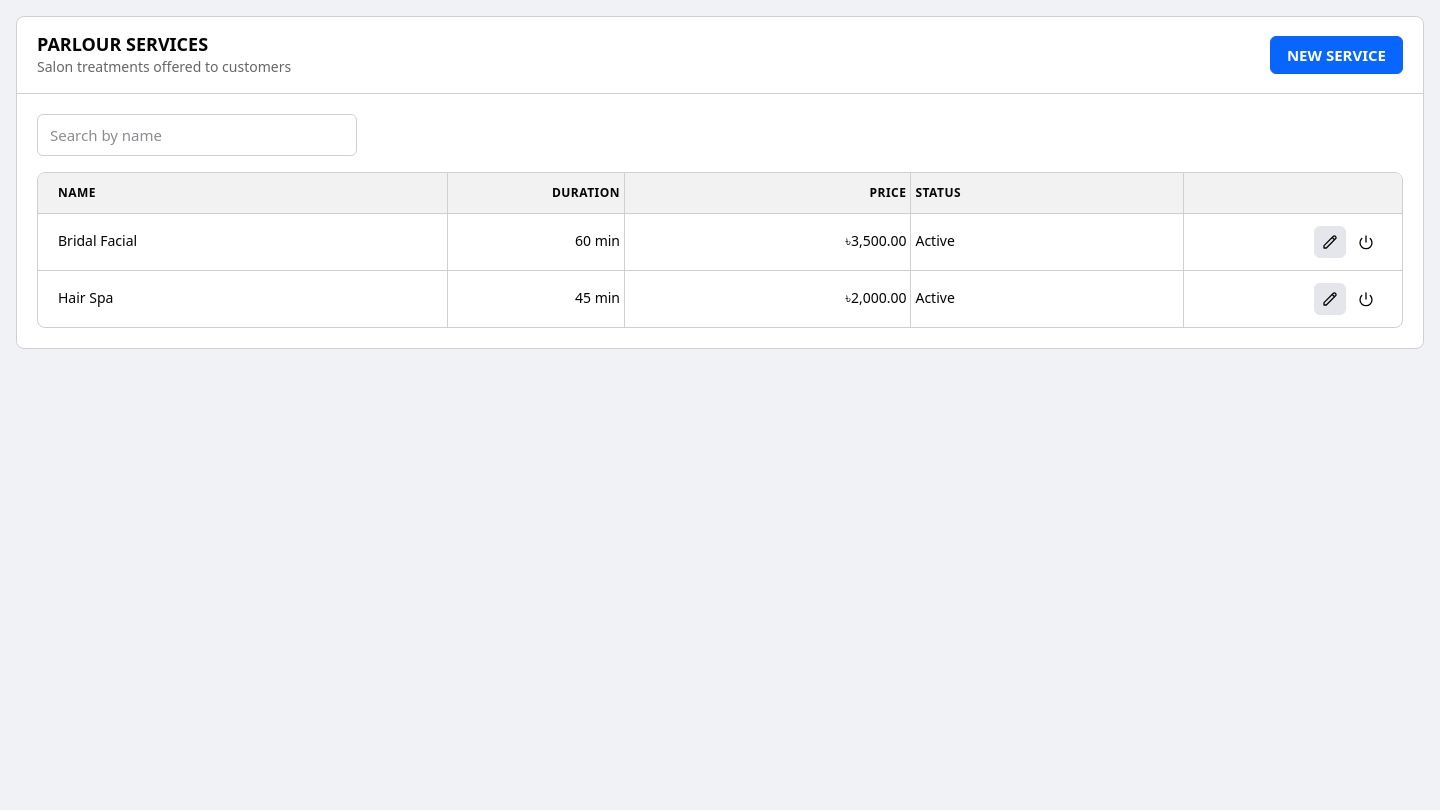
Test: ServicesPage › opens the edit modal with prefilled values
Expected: the text "Bridal Facial" is shown, [58,231,137,250]
Click the button named "edit" in the row of "Bridal Facial": x=1330, y=242 [1314,226,1346,258]
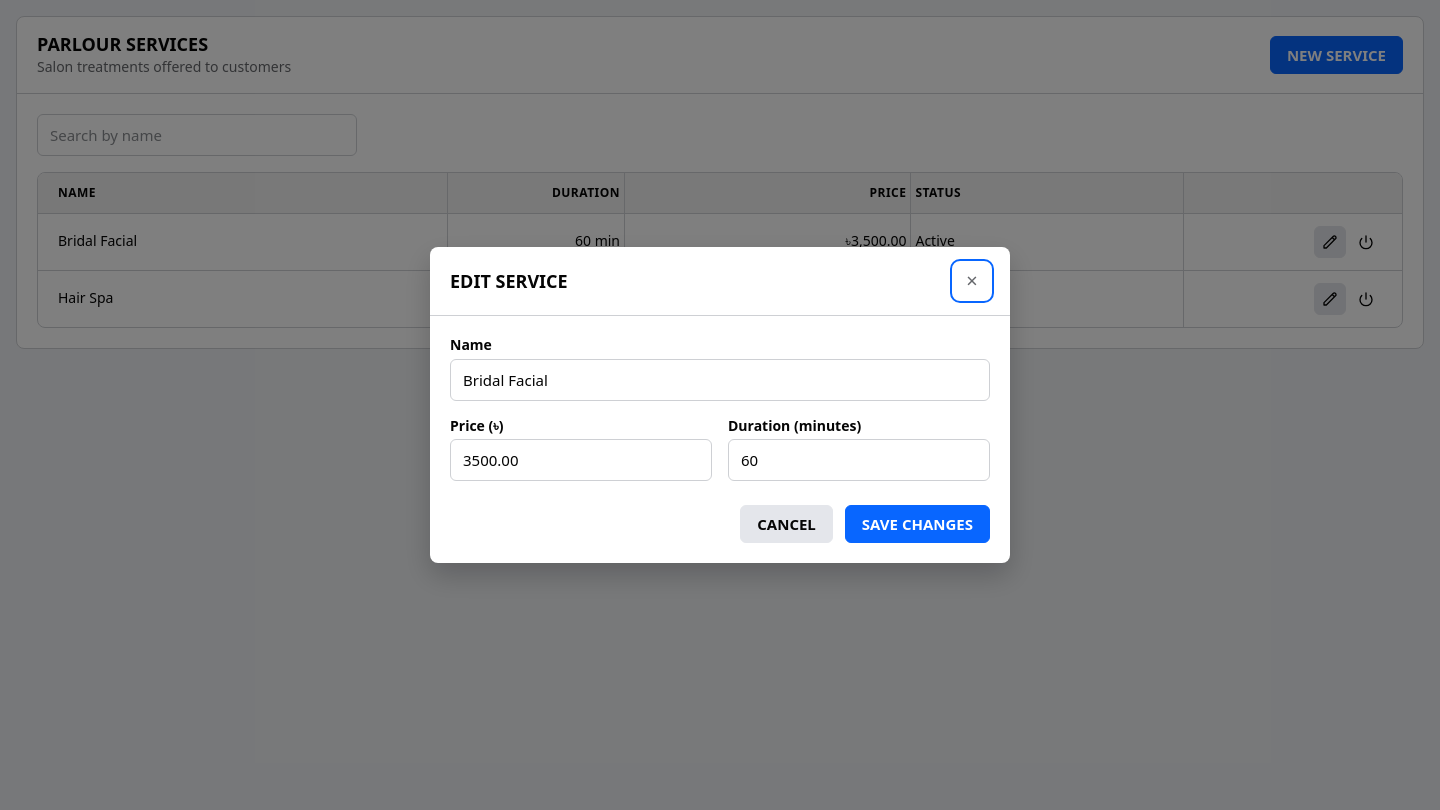
Expected: the heading "Edit service" is shown, [450,270,568,292]
Expected: the field showing "Bridal Facial" is shown, [450,358,990,400]
